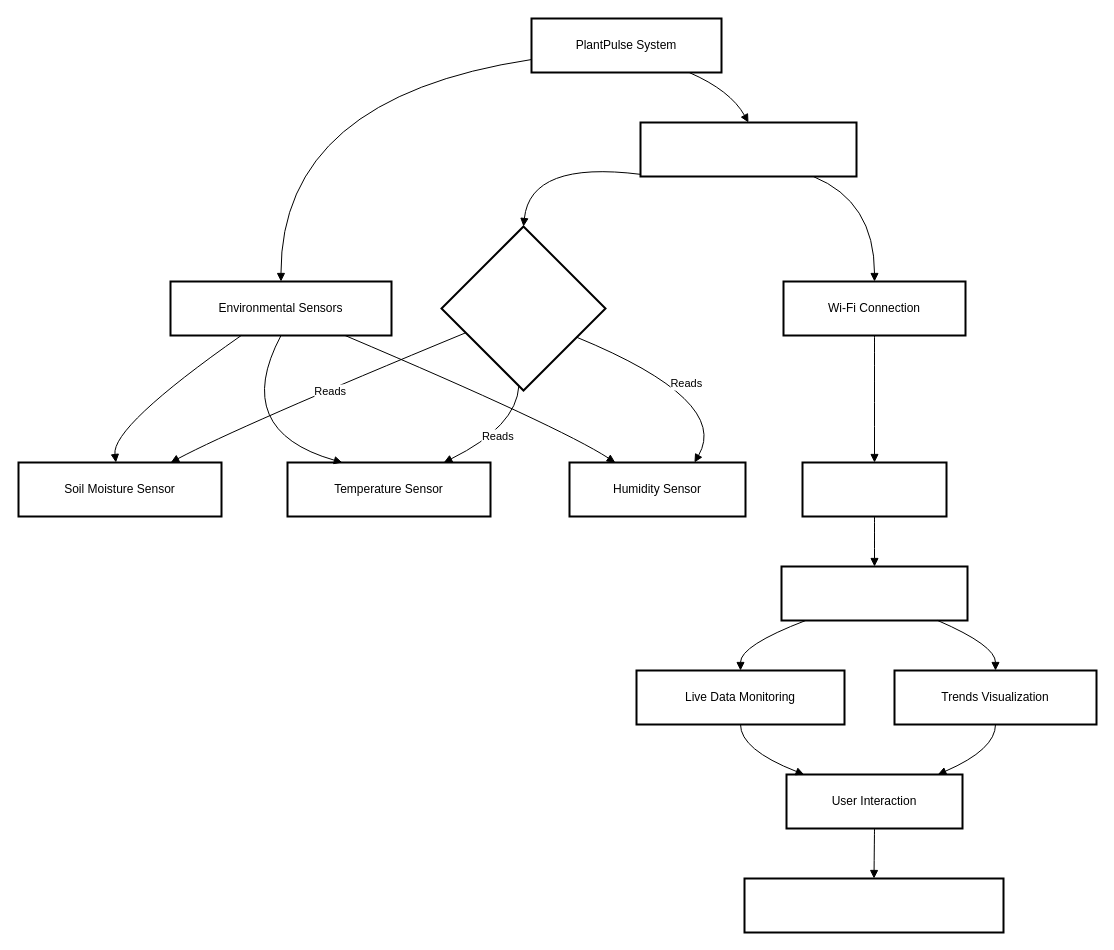
Some shapes in this 1114 by 950 pixel diagram are drawn without their labels. Each missing label, with the centre of its shape:
Blynk Cloud: (x=874, y=489)
Data Collection: (x=523, y=308)
ESP32 Microcontroller: (x=748, y=149)
Mobile Dashboard: (x=874, y=593)
Take Action on Plant Health: (x=873, y=905)
